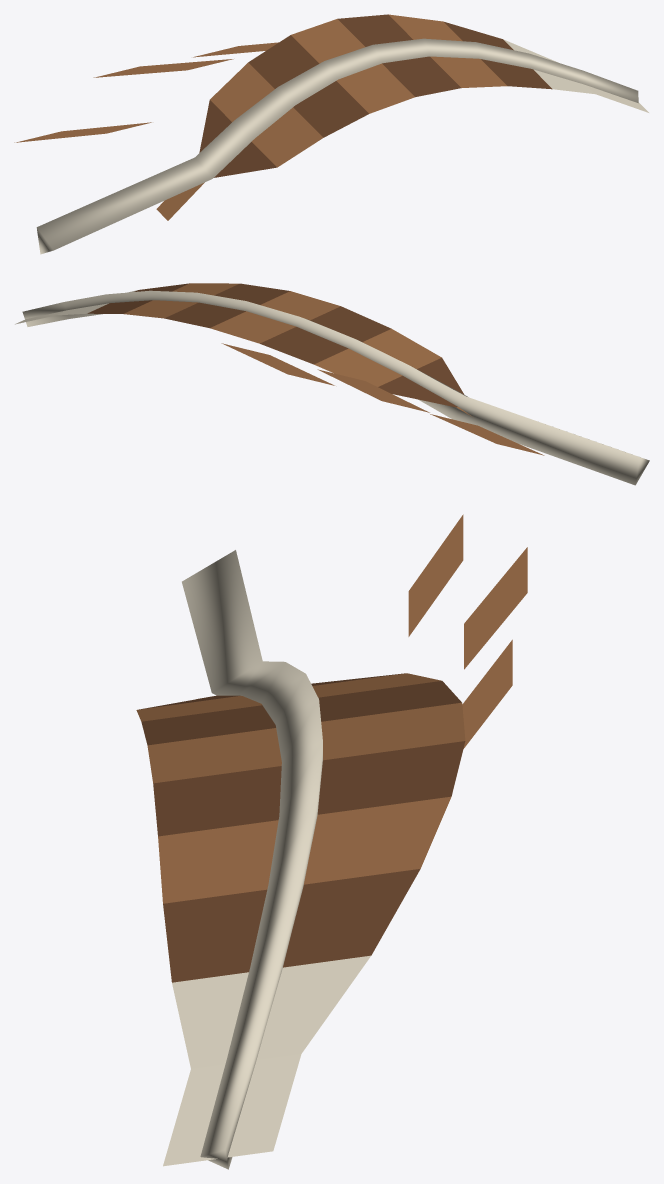
Rendered from col_wren_feather.gltf.
The picture shows the model from 3 angles, top to bottom: view 1: azimuth 30°, elevation 25°; view 2: azimuth 150°, elevation 25°; view 3: azimuth 270°, elevation 25°; orthographic projection. The views are drawn at different scales.
Parts seen in each view (by area): view 1: col_wren_feather; view 2: col_wren_feather; view 3: col_wren_feather.
Part boxes in pixels (box(x1,y1,x2,y2)): col_wren_feather: box(14, 14, 648, 254); col_wren_feather: box(15, 283, 649, 485); col_wren_feather: box(136, 514, 527, 1169).
Size of what is drawn, in the model's own units: 0.1516 by 0.026 by 0.0429.
